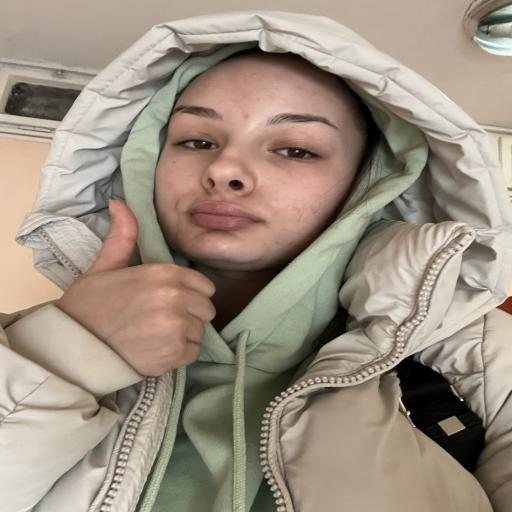marija: (156, 58, 370, 260)
